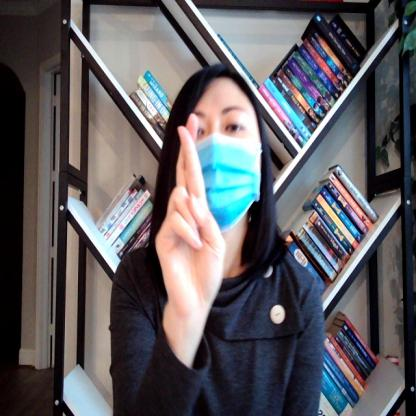right: (157, 109, 228, 332)
